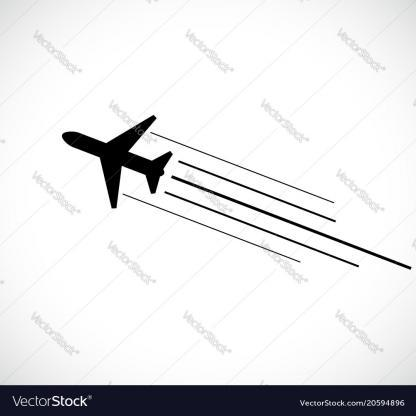CIV_Plane: (50, 111, 174, 217)
